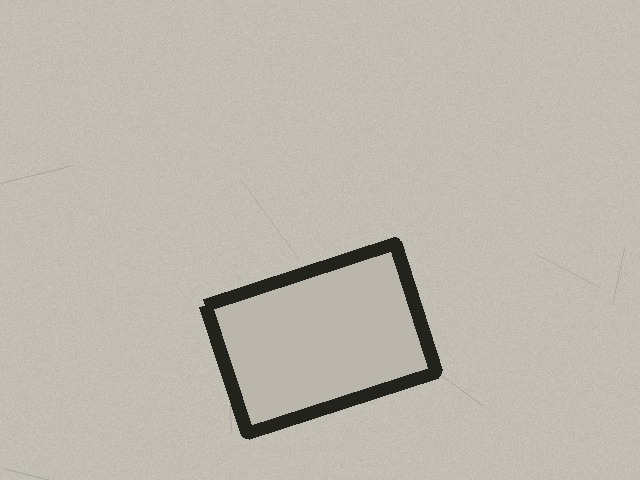parking_area: (205, 243, 436, 433)
